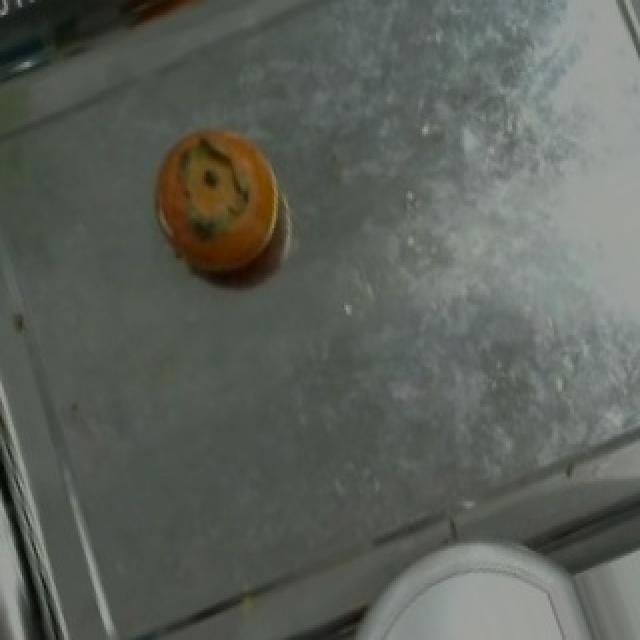Fruit: (134, 109, 302, 295), (366, 545, 588, 640)
